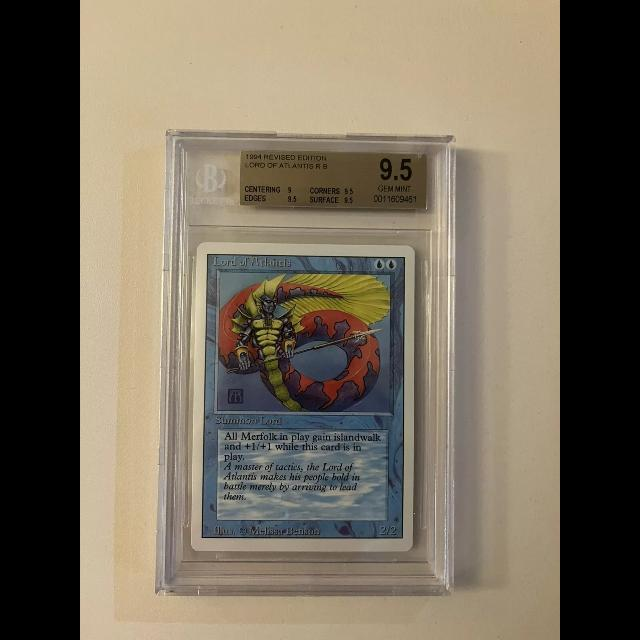bgs_label: (240, 150, 428, 210)
bgs_slab: (155, 127, 457, 597)
card: (189, 241, 415, 552)
